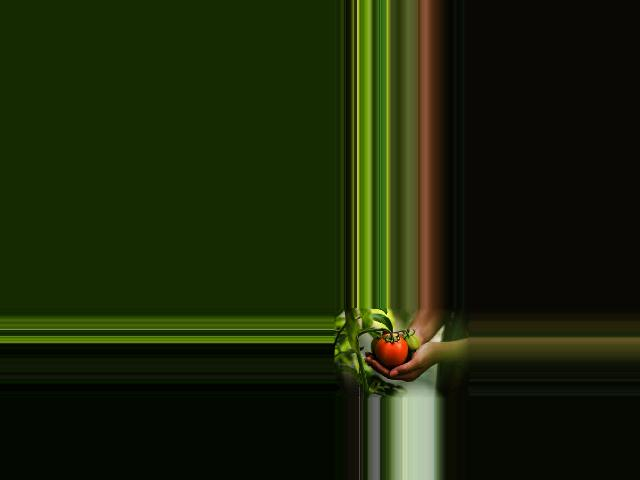tomato: (376, 334, 408, 367)
